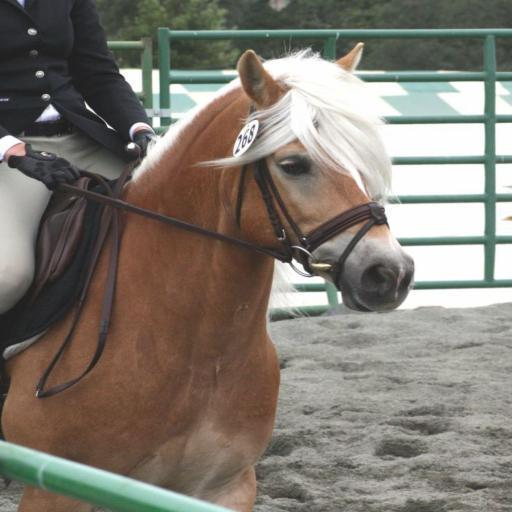horse: (0, 42, 412, 512)
